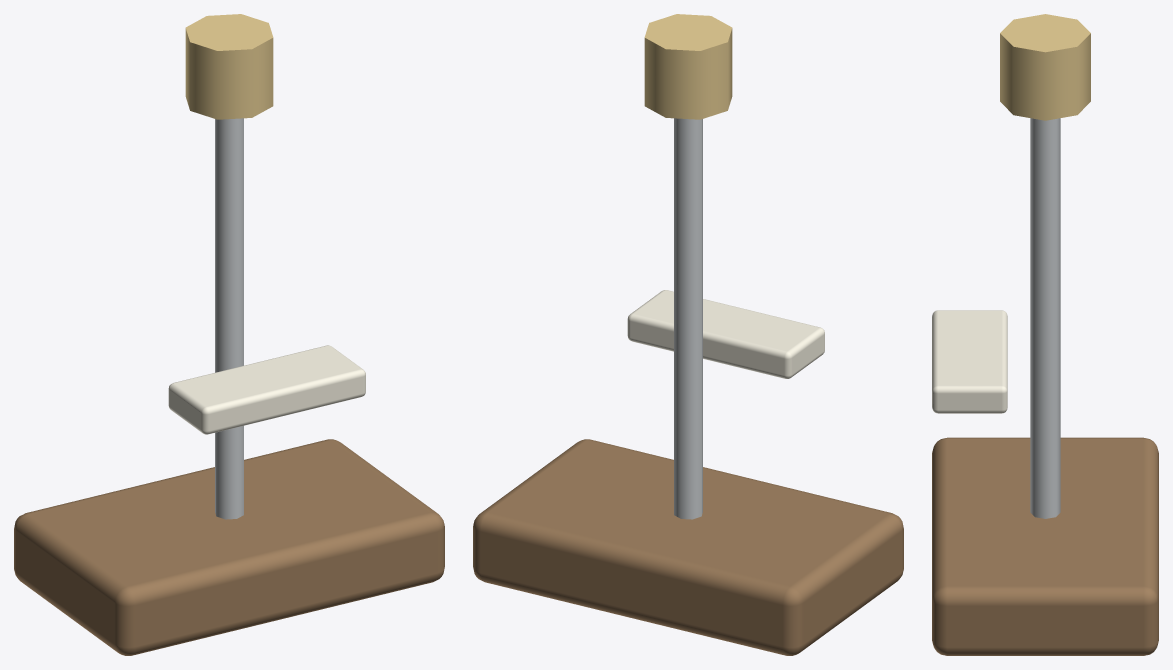
File: marquetry-and-veneer-inlay-workshop-inlay-recess-depth-f4a49126__39111.glb
3 views of the same model, side by side, from view 1: azimuth 30°, elevation 25°; view 2: azimuth 150°, elevation 25°; view 3: azimuth 270°, elevation 25° (orthographic).
Parts seen in each view (by area): view 1: inlay-recess-depth-gauge; view 2: inlay-recess-depth-gauge; view 3: inlay-recess-depth-gauge.
Part boxes in pixels (left/top/right/bottom): inlay-recess-depth-gauge: left=14, top=14, right=444, bottom=655; inlay-recess-depth-gauge: left=473, top=14, right=903, bottom=655; inlay-recess-depth-gauge: left=932, top=14, right=1158, bottom=655.
Size of the model in its own units: 0.1 by 0.16 by 0.06.
